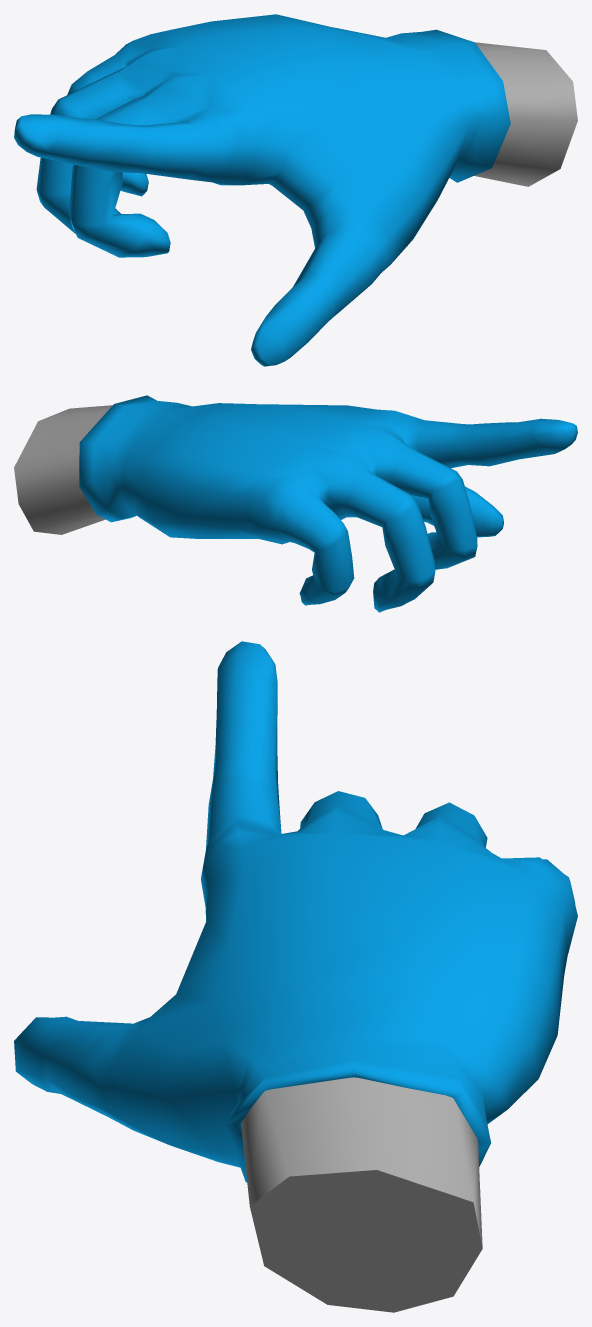
Rendered from laser-finger.fbx.
The picture shows the model from 3 angles, top to bottom: view 1: azimuth 30°, elevation 25°; view 2: azimuth 150°, elevation 25°; view 3: azimuth 270°, elevation 25°; orthographic projection. The views are drawn at different scales.
Visible parts, largest first — view 1: polySurface3; view 2: polySurface3; view 3: polySurface3.
Part boxes in pixels (x1,y1,x2,y2): polySurface3: [14, 14, 577, 366]; polySurface3: [14, 395, 577, 612]; polySurface3: [14, 641, 577, 1312].
Bounding box in the file's own units: 0.2745 × 0.1045 × 0.1678.
